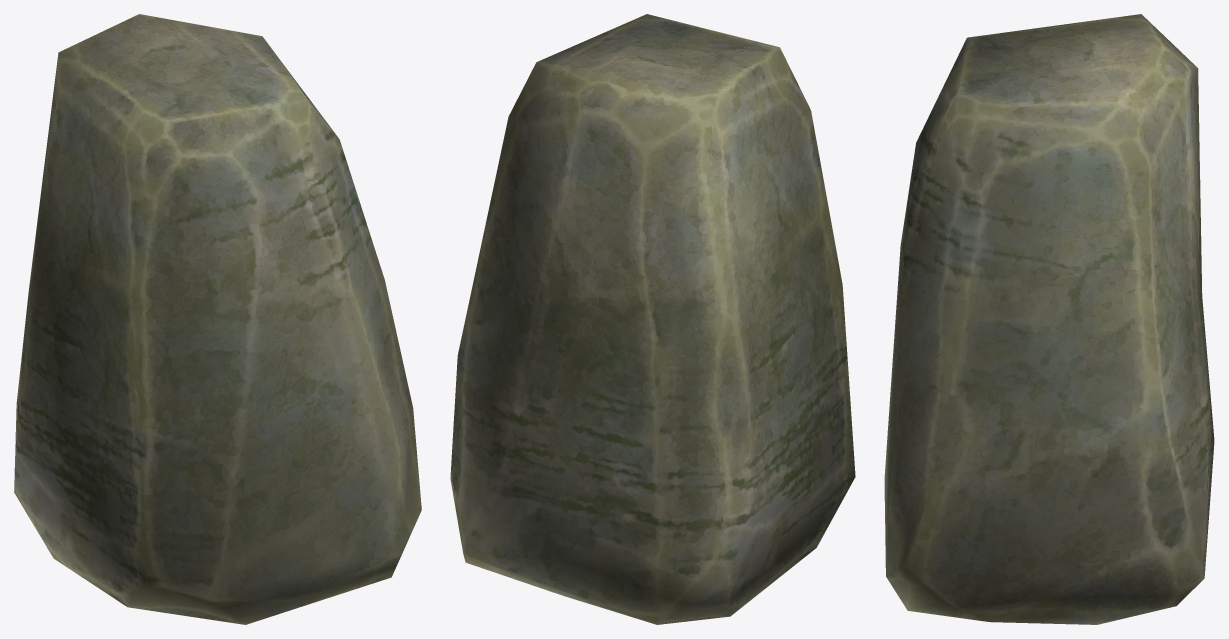
File: SM_Crystal_rock_1.fbx
3 renders of one model, left to right at view 1: azimuth 30°, elevation 25°; view 2: azimuth 150°, elevation 25°; view 3: azimuth 270°, elevation 25°, orthographic. The views are drawn at different scales.
Visible parts, largest first — view 1: SM_Crystal_rock_1_LOD0; view 2: SM_Crystal_rock_1_LOD0; view 3: SM_Crystal_rock_1_LOD0.
Boxes of the visible parts, x1,y1,x2,y2 form: SM_Crystal_rock_1_LOD0: [14, 14, 421, 624]; SM_Crystal_rock_1_LOD0: [450, 14, 855, 624]; SM_Crystal_rock_1_LOD0: [884, 14, 1214, 624].
Bounding box in the file's own units: 61.74 × 60.22 × 108.
